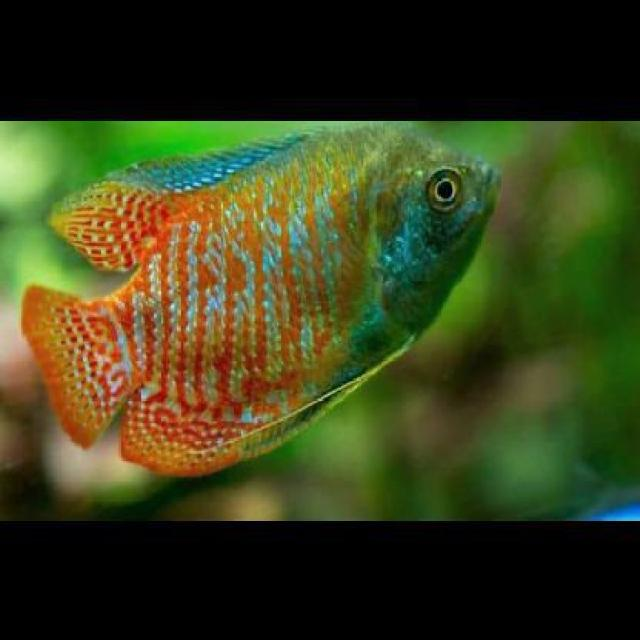Gourami: (32, 120, 500, 474)
